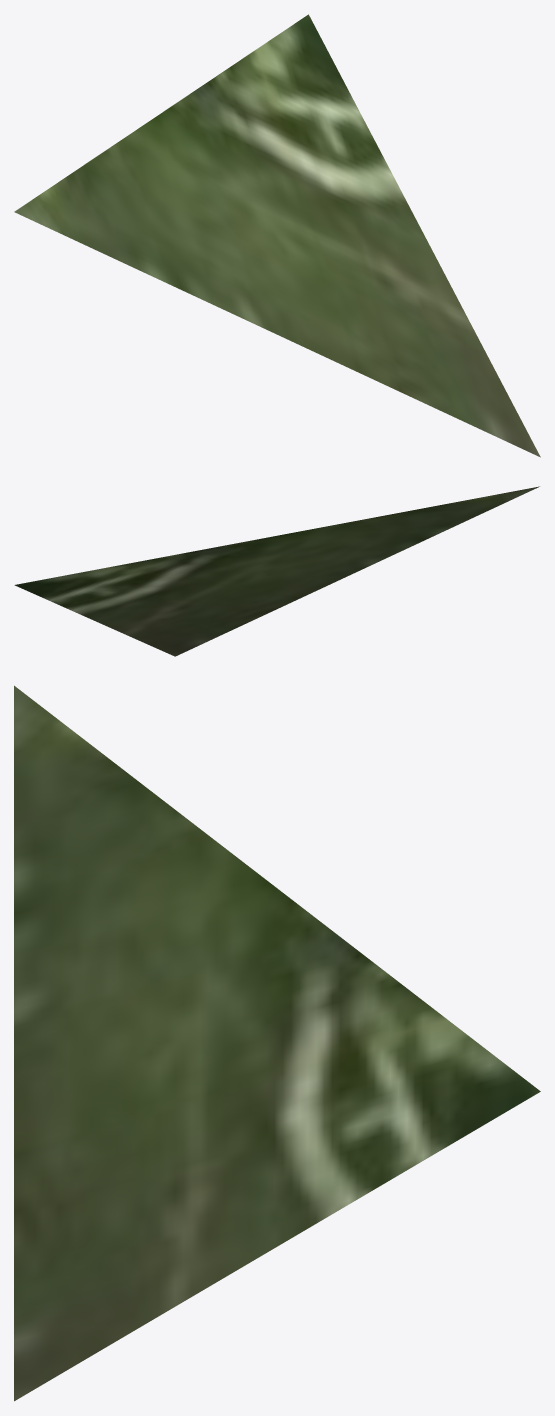
3 views of the same model, one above another, from view 1: azimuth 30°, elevation 25°; view 2: azimuth 150°, elevation 25°; view 3: azimuth 270°, elevation 25° (orthographic). The views are drawn at different scales.
Size of the model in its own units: 0.8304 by 0.5635 by 0.634.
1 material, 1 textured.
